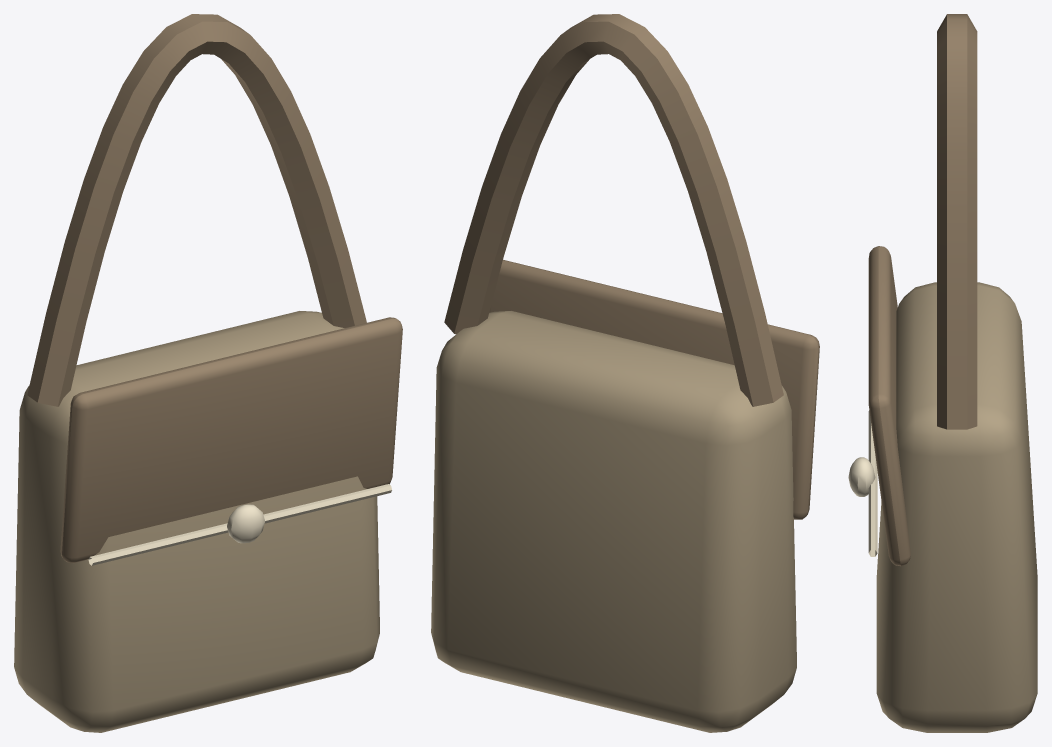
The model's file is embornal.glb.
3 views of the same model, side by side, from view 1: azimuth 30°, elevation 25°; view 2: azimuth 150°, elevation 25°; view 3: azimuth 270°, elevation 25° (orthographic). The views are drawn at different scales.
Visible parts, largest first — view 1: embornal; view 2: embornal; view 3: embornal.
Part boxes in pixels (x1,y1,x2,y2): embornal: (14,14,402,732); embornal: (431,14,819,732); embornal: (848,14,1037,732).
Bounding box in the file's own units: 0.3302 × 0.6406 × 0.1687.
